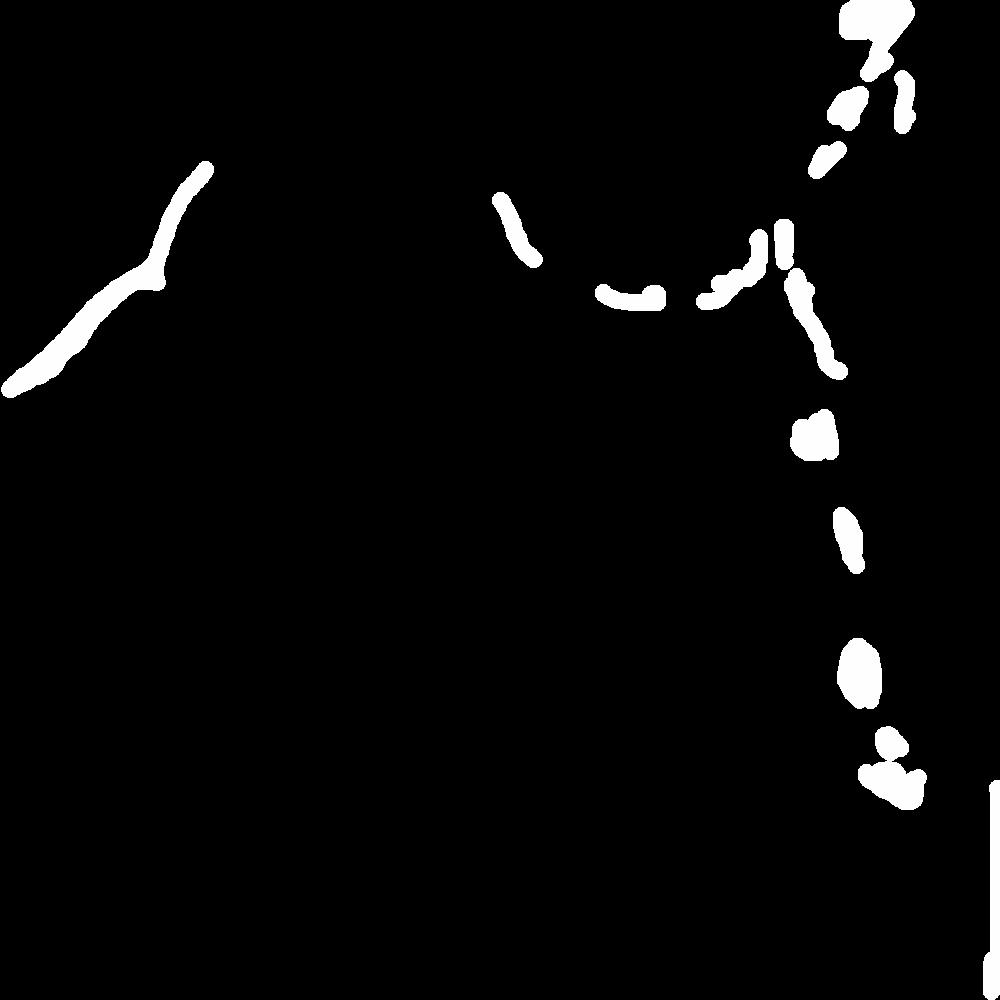illegal: (1, 142, 218, 405), (485, 181, 798, 317), (748, 408, 864, 571), (835, 636, 928, 810), (803, 79, 870, 180), (834, 1, 926, 74), (789, 274, 850, 378), (975, 770, 1000, 1000), (890, 91, 916, 135)
